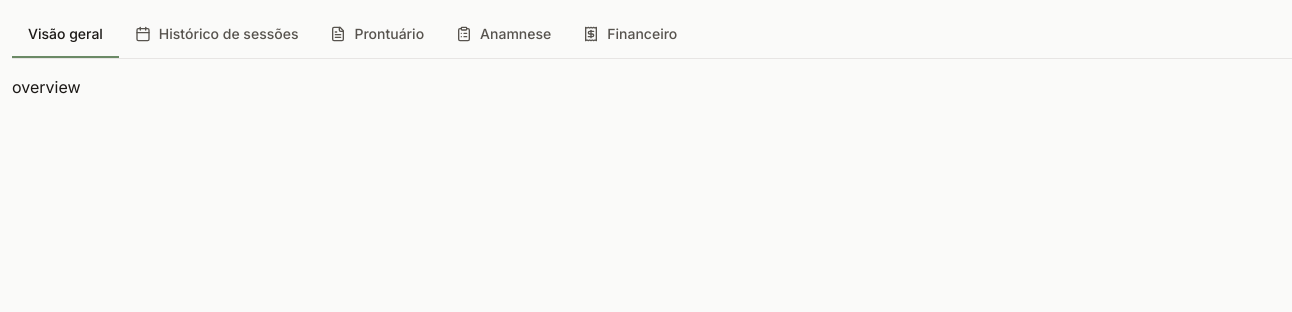
Scenario: PatientTabs wired with PatientSessionHistory (task 9.3) › renders the empty state for a patient with no sessions
Click the tab with test id "patient-tab-sessions". click: (217, 35)
box: [119,12,314,58]
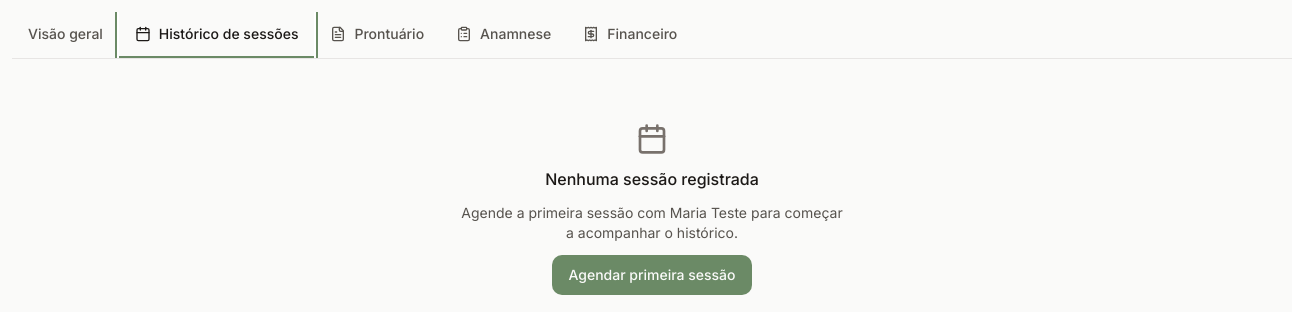
expect the element with test id "session-history-empty" is shown: met, box [461,123,843,295]
